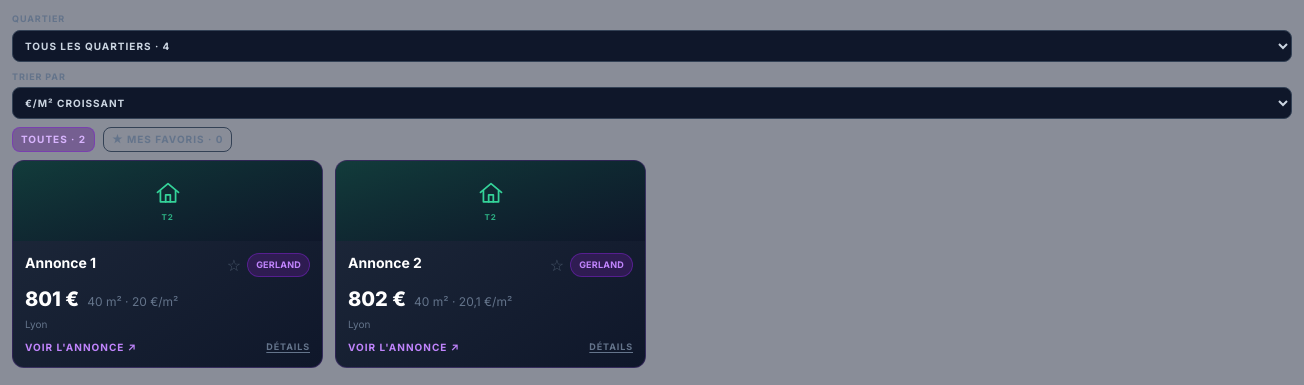
Test: AnnoncesList › filtre "Mes favoris" (ORA-132) › switches back to showing all annonces when "Toutes" is clicked
expect the text "Annonce 1" is shown: met, box [25,253,96,273]
Click the tab "★ Mes favoris · 0" at [168, 140], box [103,127,232,152]
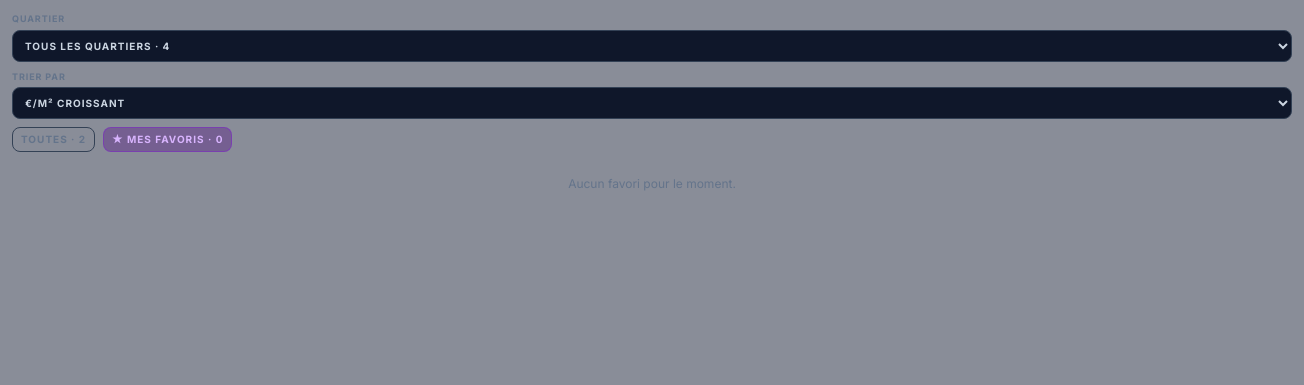
expect the text "Aucun favori pour le moment." is shown: met, box [568,176,736,191]
Click the tab "Toutes · 2" at [54, 140], box [12,127,95,152]
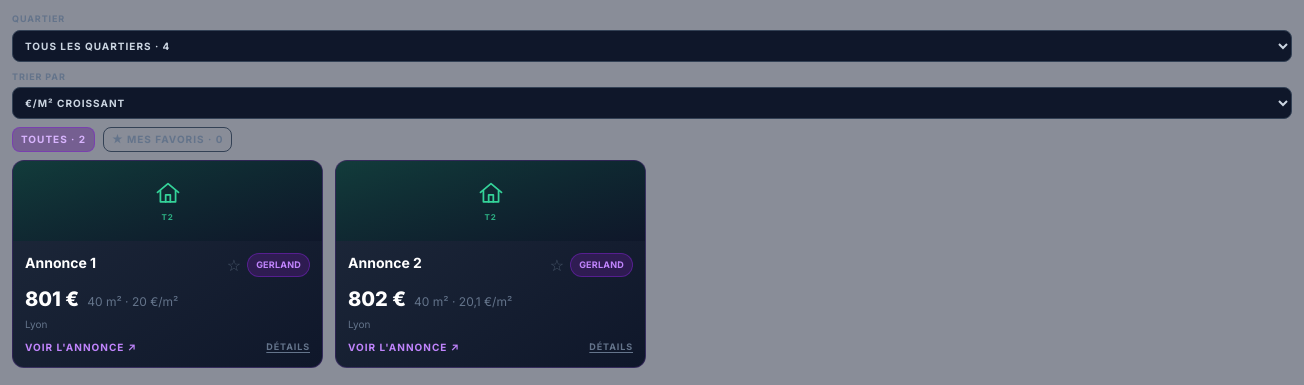
expect the text "Annonce 1" is shown: met, box [25,253,96,273]
expect the text "Annonce 2" is shown: met, box [348,253,422,273]
